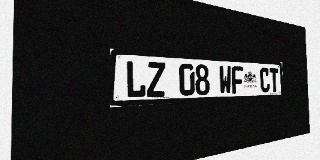0: (179, 63, 195, 96)
8: (195, 64, 210, 95)
C: (260, 67, 270, 93)
F: (231, 66, 244, 94)
L: (125, 60, 146, 98)
T: (269, 68, 279, 92)
W: (219, 65, 232, 94)
Z: (147, 62, 166, 97)
